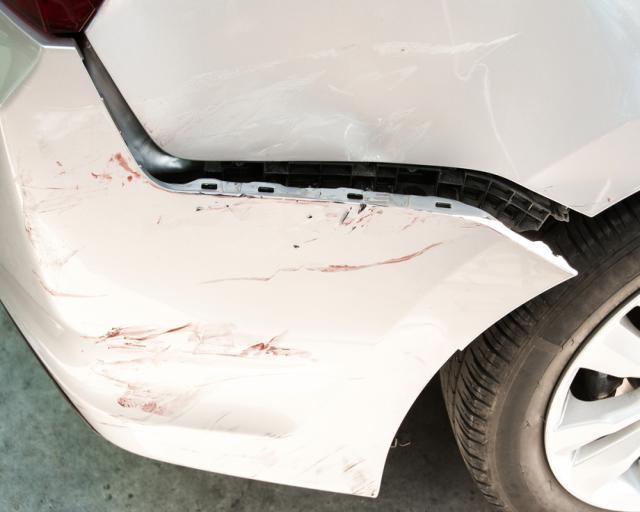dent: (150, 78, 442, 166)
scratch: (17, 152, 454, 487)
